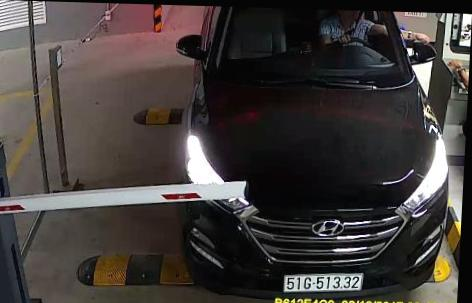License_Plate: (280, 266, 370, 300)
